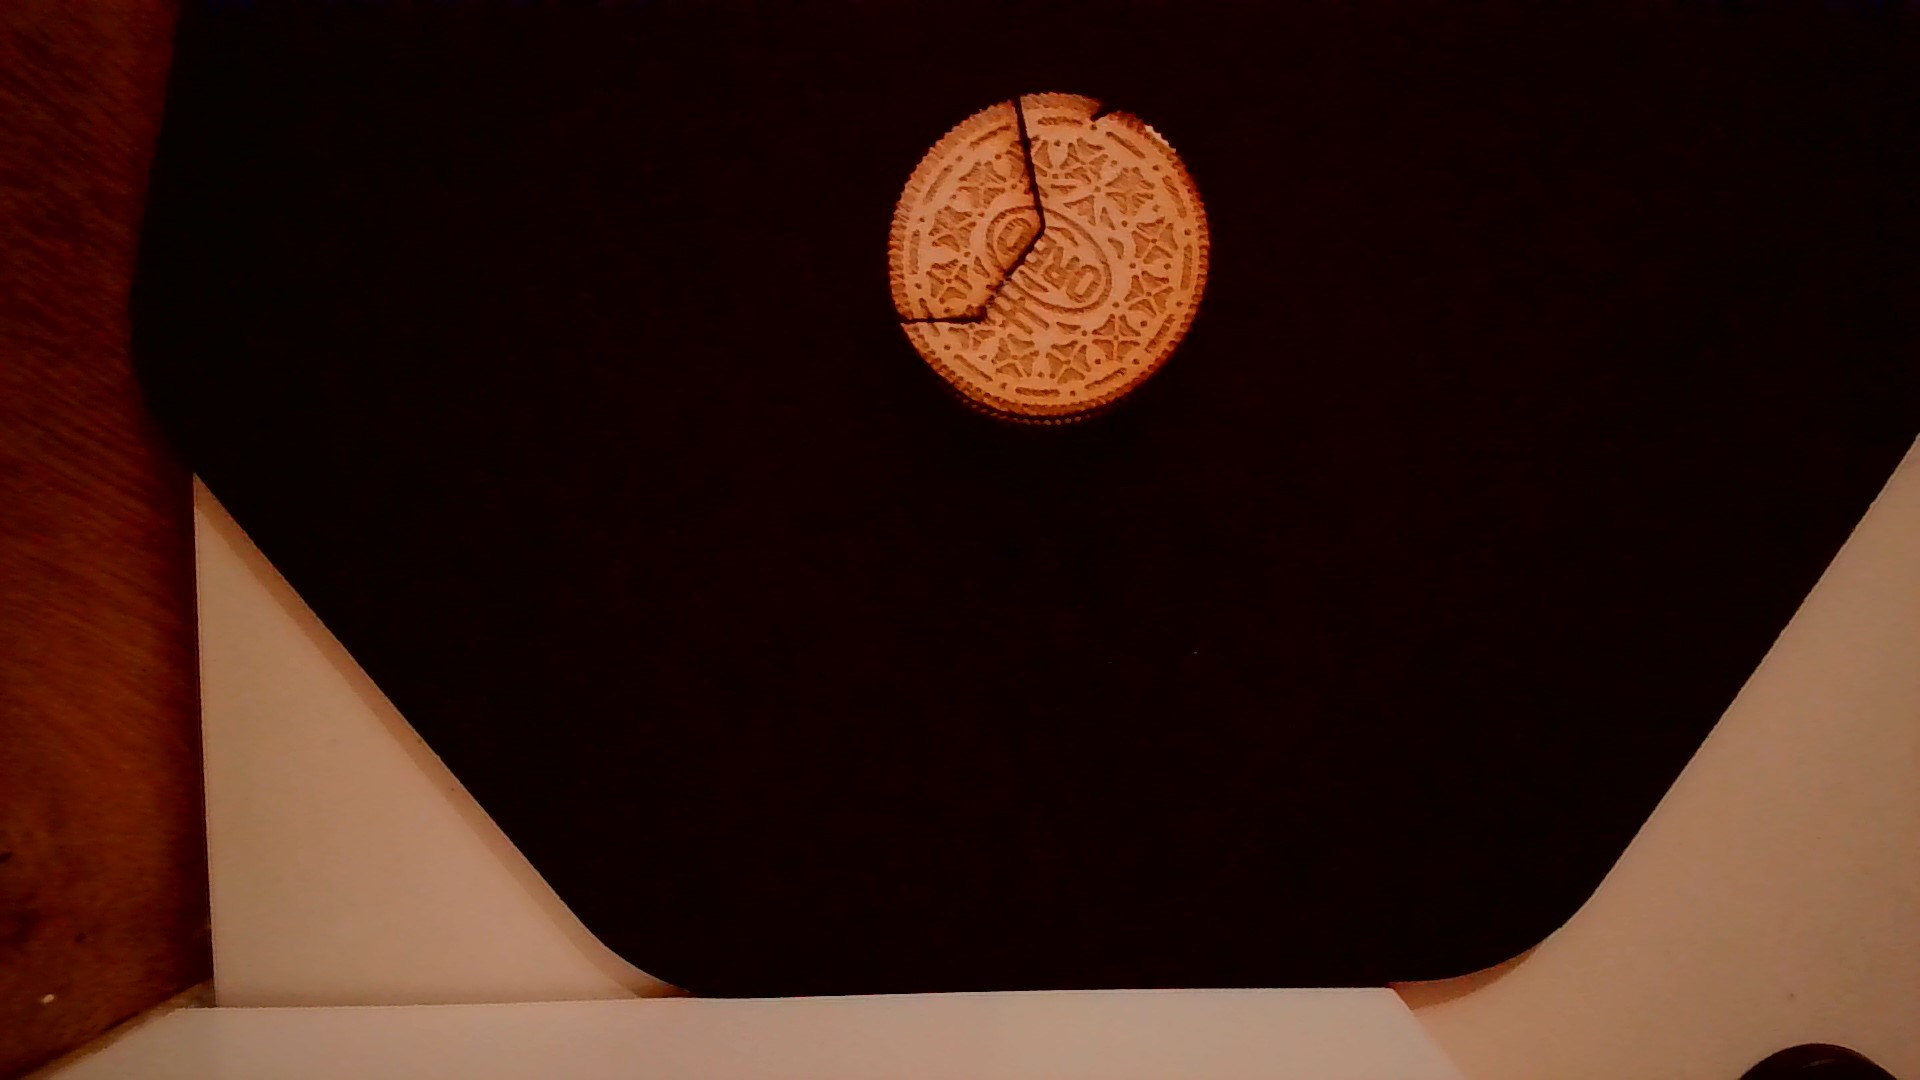Fissure: (891, 92, 1054, 334), (1077, 96, 1127, 133)
Oréo: (882, 82, 1220, 438)
